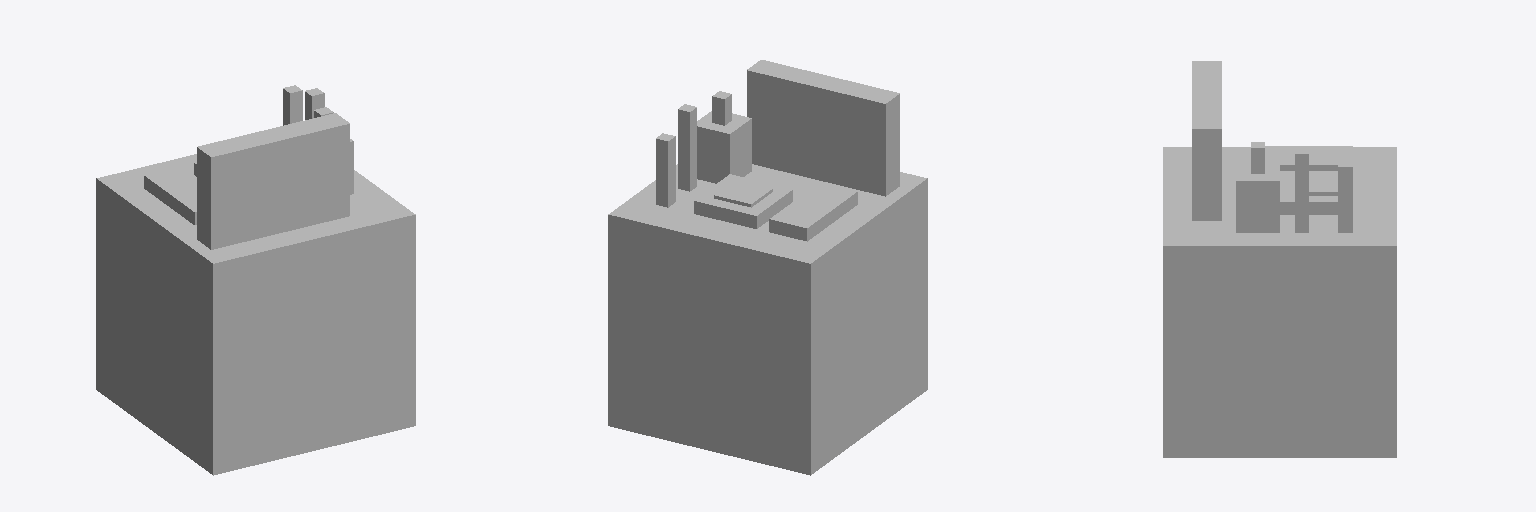
The model's file is research_machine.obj.
3 renders of one model, left to right at view 1: azimuth 30°, elevation 25°; view 2: azimuth 150°, elevation 25°; view 3: azimuth 270°, elevation 25°, orthographic.
Visible parts, largest first — view 1: main_cube, screen, lights, antenna.001; view 2: main_cube, screen, diode, lights, gauge, antenna, antenna.001, cube, diode_top; view 3: main_cube, screen, diode, lights, gauge, antenna, antenna.001, cube.
Part boxes in pixels (x1,y1,x2,y2): main_cube: (96,154,415,475); screen: (197,113,349,249); lights: (144,166,196,224); antenna.001: (283,85,302,125); main_cube: (608,164,927,475); screen: (747,60,899,196); diode: (697,111,751,183); lights: (769,182,857,241); gauge: (694,174,792,228); antenna: (678,104,696,191); antenna.001: (656,133,675,207); cube: (714,179,772,207); diode_top: (712,91,731,125); main_cube: (1163,147,1396,457); screen: (1192,61,1221,220); diode: (1236,162,1279,232); lights: (1265,146,1352,170); gauge: (1280,171,1337,214); antenna: (1295,148,1308,232); antenna.001: (1338,161,1352,232); cube: (1309,174,1337,195).
Bounding box in the file's own units: 1 × 1.44 × 1.